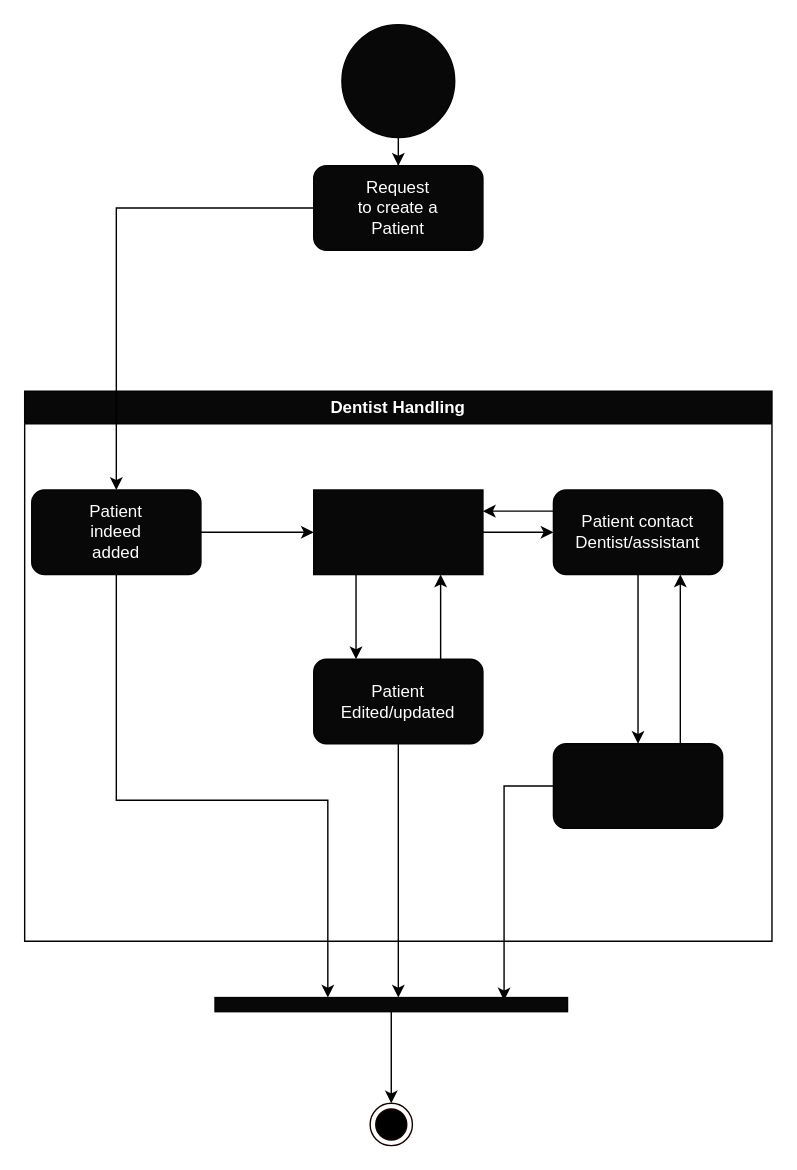
The diagram is 797 pixels wide and 1170 high, and some of its shapes have lost their labels. The shapes that lost their labels are listed below. From the top down, each one's centre as x and y in pixels, then its label:
point 398,80: START
point 397,532: Patient Management system idle
point 637,785: Appointment handling
